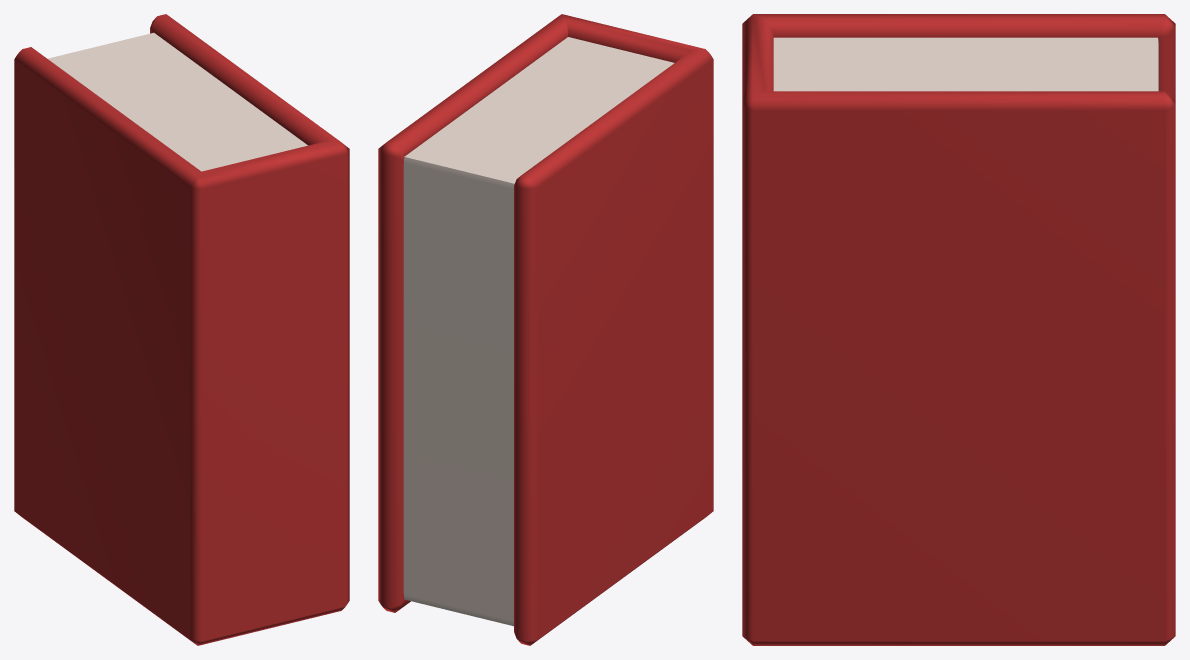
The model's file is Book_1.glb.
3 renders of one model, left to right at view 1: azimuth 30°, elevation 25°; view 2: azimuth 150°, elevation 25°; view 3: azimuth 270°, elevation 25°, orthographic. The views are drawn at different scales.
Parts seen in each view (by area): view 1: Book_1; view 2: Book_1; view 3: Book_1.
Part boxes in pixels (x1,y1,x2,y2): Book_1: (14,14,349,645); Book_1: (378,14,713,645); Book_1: (742,14,1175,645).
Bounding box in the file's own units: 0.1199 × 0.3355 × 0.2399.
Materials: 1 (1 with a texture image).
